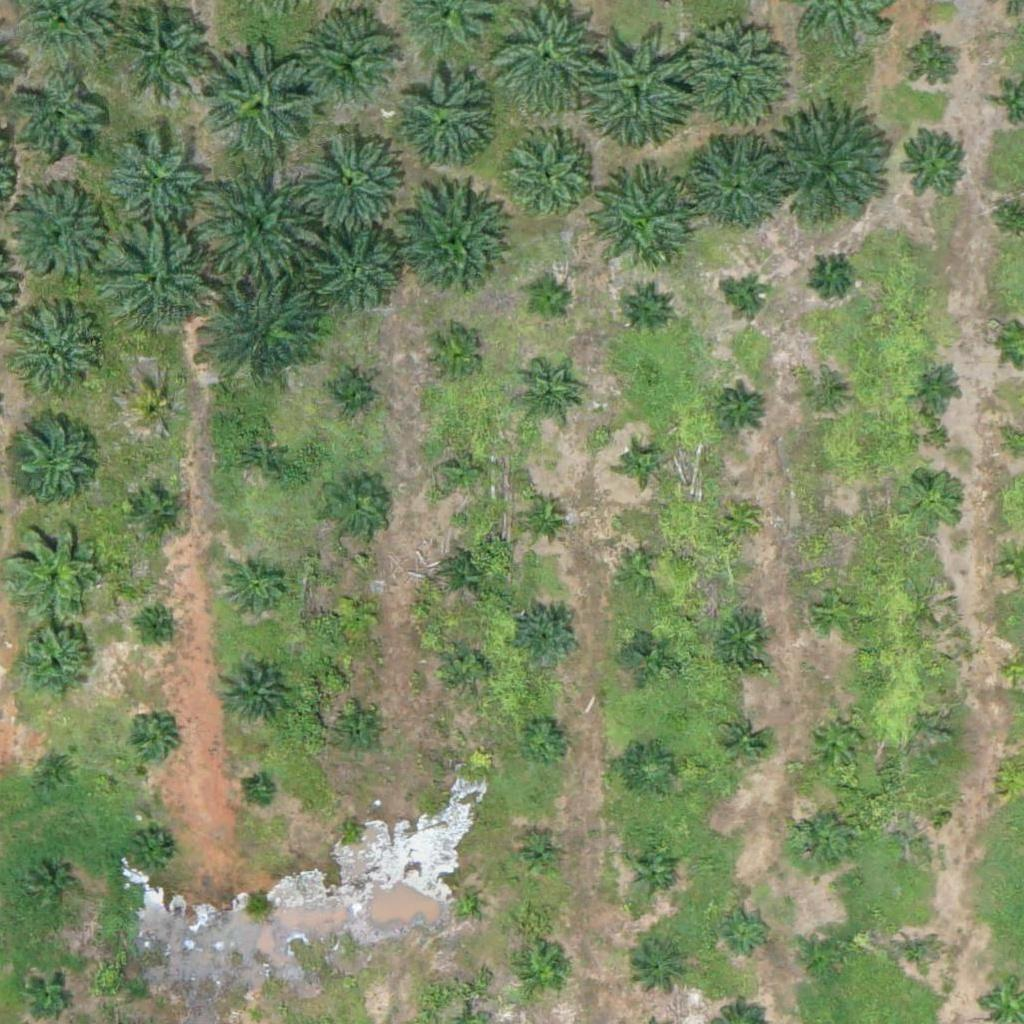Kelapa_Sawit: (577, 27, 702, 153), (195, 158, 320, 284), (203, 269, 328, 395), (773, 108, 898, 233), (394, 189, 507, 303), (674, 21, 787, 134), (103, 227, 216, 340), (295, 119, 407, 233), (205, 39, 317, 153), (583, 171, 695, 284), (684, 132, 784, 233), (498, 126, 598, 227), (107, 128, 207, 229), (11, 74, 111, 175), (6, 183, 106, 284), (4, 518, 104, 619), (391, 71, 491, 171), (304, 10, 404, 110), (17, 312, 105, 401), (11, 619, 99, 707), (313, 230, 401, 318), (11, 408, 98, 496), (217, 655, 292, 731), (897, 124, 972, 199), (630, 936, 693, 999), (515, 369, 578, 432), (421, 323, 484, 386), (788, 807, 851, 870), (517, 605, 580, 668), (432, 440, 495, 503), (325, 478, 387, 541), (225, 557, 287, 620), (712, 609, 774, 672), (806, 710, 868, 773), (902, 470, 964, 533), (229, 427, 291, 490), (624, 744, 674, 795), (622, 626, 672, 677), (442, 548, 492, 599), (911, 41, 961, 92), (518, 491, 568, 542), (443, 642, 493, 693), (322, 369, 372, 420), (331, 588, 381, 639), (519, 715, 569, 766), (717, 715, 767, 766), (891, 930, 941, 981), (803, 928, 853, 979), (721, 905, 771, 956), (629, 847, 679, 898), (132, 486, 182, 536), (622, 284, 672, 334), (518, 949, 568, 999), (716, 382, 766, 432), (912, 361, 962, 411), (812, 586, 862, 636), (615, 546, 665, 596), (523, 279, 573, 329), (337, 709, 387, 759), (514, 832, 564, 882), (126, 715, 176, 765), (129, 829, 179, 879), (26, 968, 76, 1018), (26, 861, 76, 911), (33, 747, 83, 797), (133, 386, 183, 436), (813, 254, 851, 292), (721, 500, 759, 538), (624, 445, 662, 483), (730, 280, 767, 318), (807, 378, 844, 416), (819, 507, 856, 545), (902, 805, 939, 843), (246, 778, 271, 804), (451, 889, 476, 914), (339, 816, 364, 841), (147, 614, 172, 639)
